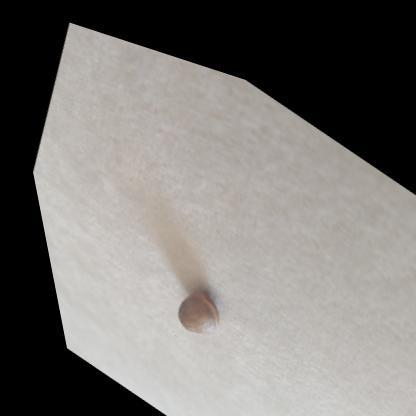pistachio: (177, 290, 220, 342)
